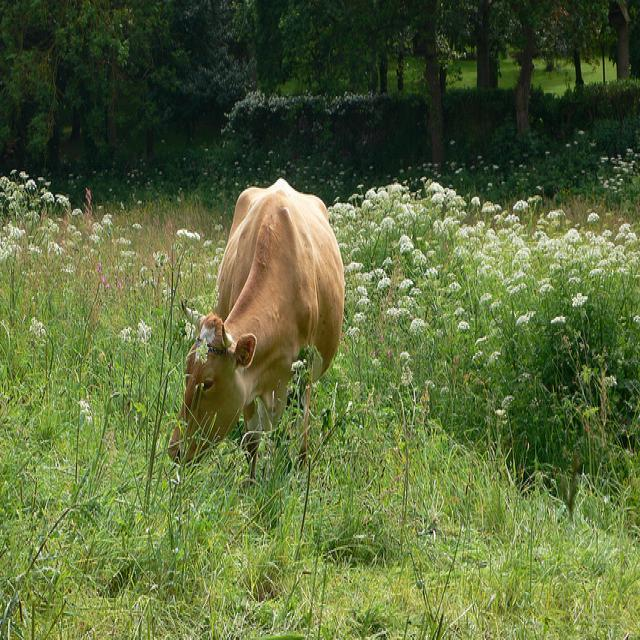cow: (165, 176, 344, 479)
